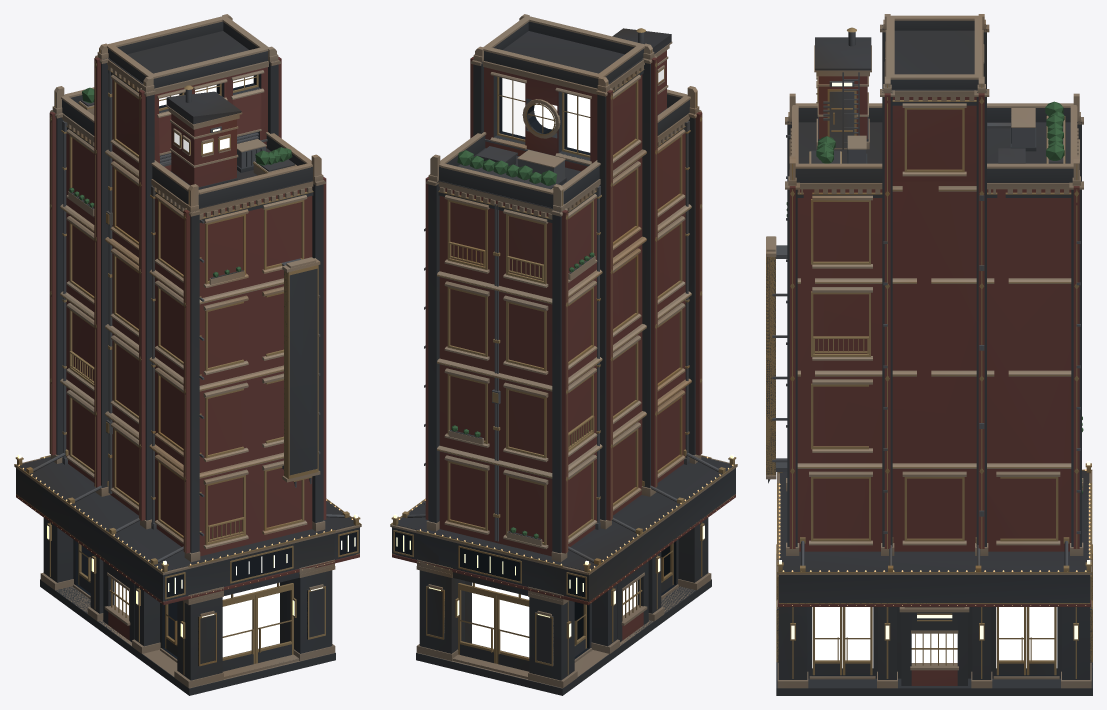
Rendered from cinema221.glb.
3 views of the same model, side by side, from view 1: azimuth 30°, elevation 25°; view 2: azimuth 150°, elevation 25°; view 3: azimuth 270°, elevation 25° (orthographic). The views are drawn at different scales.
Visible parts, largest first — view 1: c221-wall, c221-wall2, c221-trim, c221-frame, c221-roof, c221-steel, c221-shop, c221-dark, c221-leaf, c221-lamp, c221-room1; view 2: c221-wall, c221-wall2, c221-trim, c221-frame, c221-roof, c221-steel, c221-dark, c221-shop, c221-room2, c221-leaf, c221-room1, c221-lamp; view 3: c221-wall, c221-wall2, c221-trim, c221-frame, c221-roof, c221-shop, c221-steel, c221-leaf, c221-lamp.
Part boxes in pixels (left/top/right/bottom): c221-wall: left=16, top=56, right=359, bottom=640; c221-wall2: left=16, top=21, right=359, bottom=695; c221-trim: left=14, top=14, right=361, bottom=688; c221-frame: left=14, top=50, right=361, bottom=674; c221-roof: left=17, top=31, right=354, bottom=571; c221-steel: left=33, top=70, right=344, bottom=562; c221-shop: left=114, top=581, right=279, bottom=657; c221-dark: left=75, top=75, right=356, bottom=659; c221-leaf: left=69, top=87, right=292, bottom=277; c221-lamp: left=17, top=128, right=358, bottom=637; c221-room1: left=159, top=76, right=253, bottom=153; c221-wall: left=392, top=50, right=735, bottom=640; c221-wall2: left=392, top=21, right=735, bottom=695; c221-trim: left=390, top=14, right=737, bottom=688; c221-frame: left=390, top=28, right=737, bottom=674; c221-roof: left=397, top=28, right=734, bottom=571; c221-steel: left=407, top=32, right=718, bottom=562; c221-dark: left=395, top=77, right=676, bottom=659; c221-shop: left=472, top=581, right=637, bottom=657; c221-room2: left=534, top=94, right=590, bottom=152; c221-leaf: left=451, top=150, right=594, bottom=538; c221-room1: left=502, top=78, right=525, bottom=136; c221-lamp: left=393, top=454, right=734, bottom=637; c221-wall: left=778, top=76, right=1091, bottom=685; c221-wall2: left=766, top=20, right=1092, bottom=695; c221-trim: left=766, top=14, right=1092, bottom=688; c221-frame: left=766, top=27, right=1092, bottom=678; c221-roof: left=780, top=30, right=1089, bottom=571; c221-shop: left=812, top=607, right=1057, bottom=668; c221-steel: left=768, top=32, right=1080, bottom=565; c221-leaf: left=786, top=101, right=1083, bottom=493; c221-lamp: left=779, top=82, right=1090, bottom=639.
Bounding box in the file's own units: 6.92 × 19.18 × 9.29.
